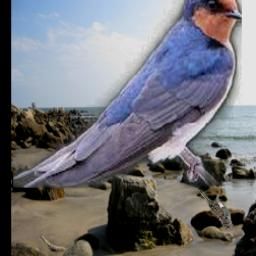Sparrow: (199, 187, 235, 230)
Swallow: (14, 0, 243, 189)
